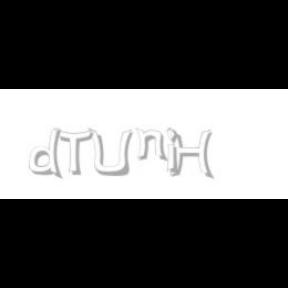H: (168, 128, 214, 180)
T: (53, 128, 93, 176)
U: (88, 128, 132, 178)
d: (30, 128, 66, 180)
i: (166, 128, 182, 176)
n: (135, 128, 169, 162)
